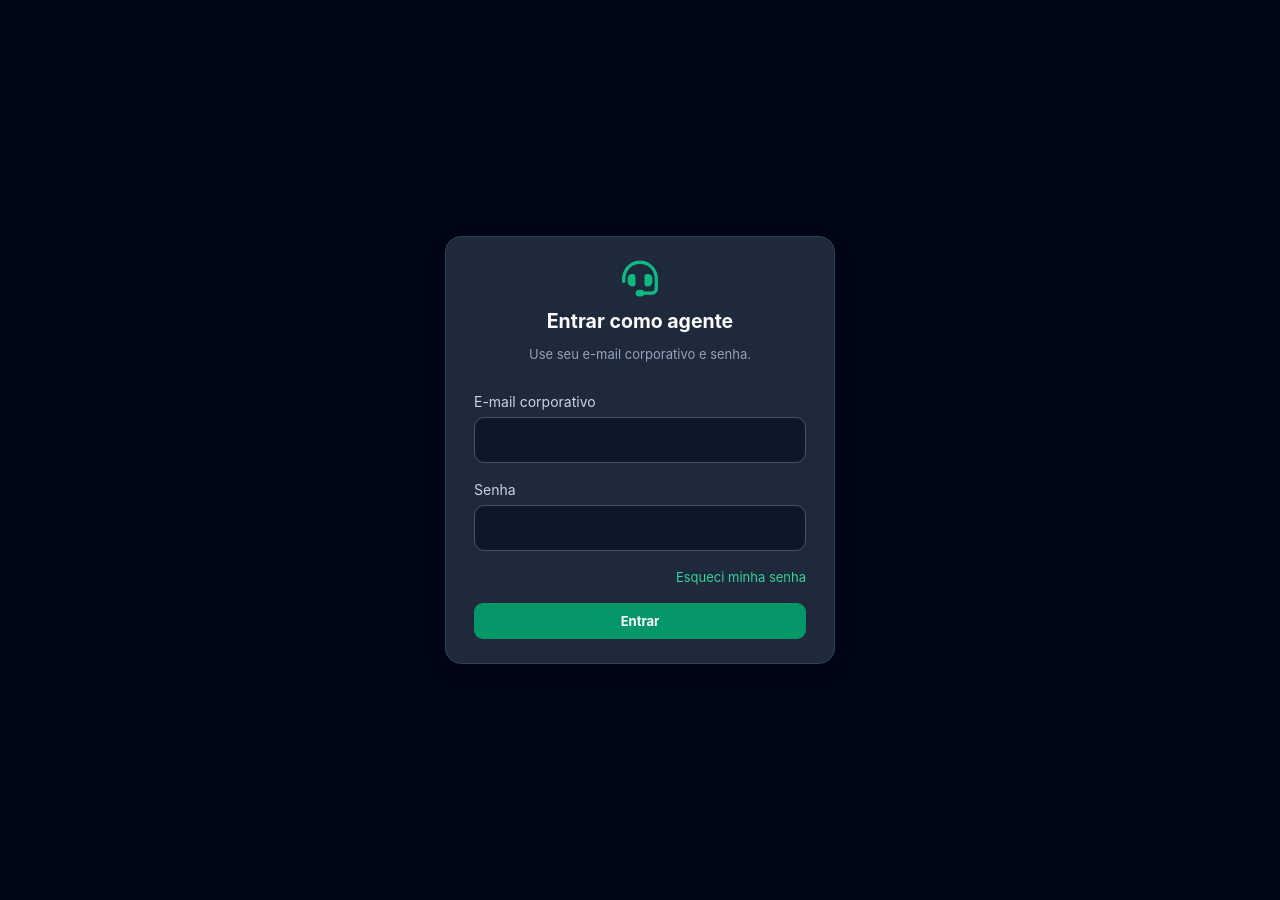
it: LoginModal › envia credenciais e apresenta erro
Type "agente@sng.com.br" into the field labelled "E-mail corporativo".
click(640, 440); type("agente@sng.com.br")  # box [474, 417, 806, 463]
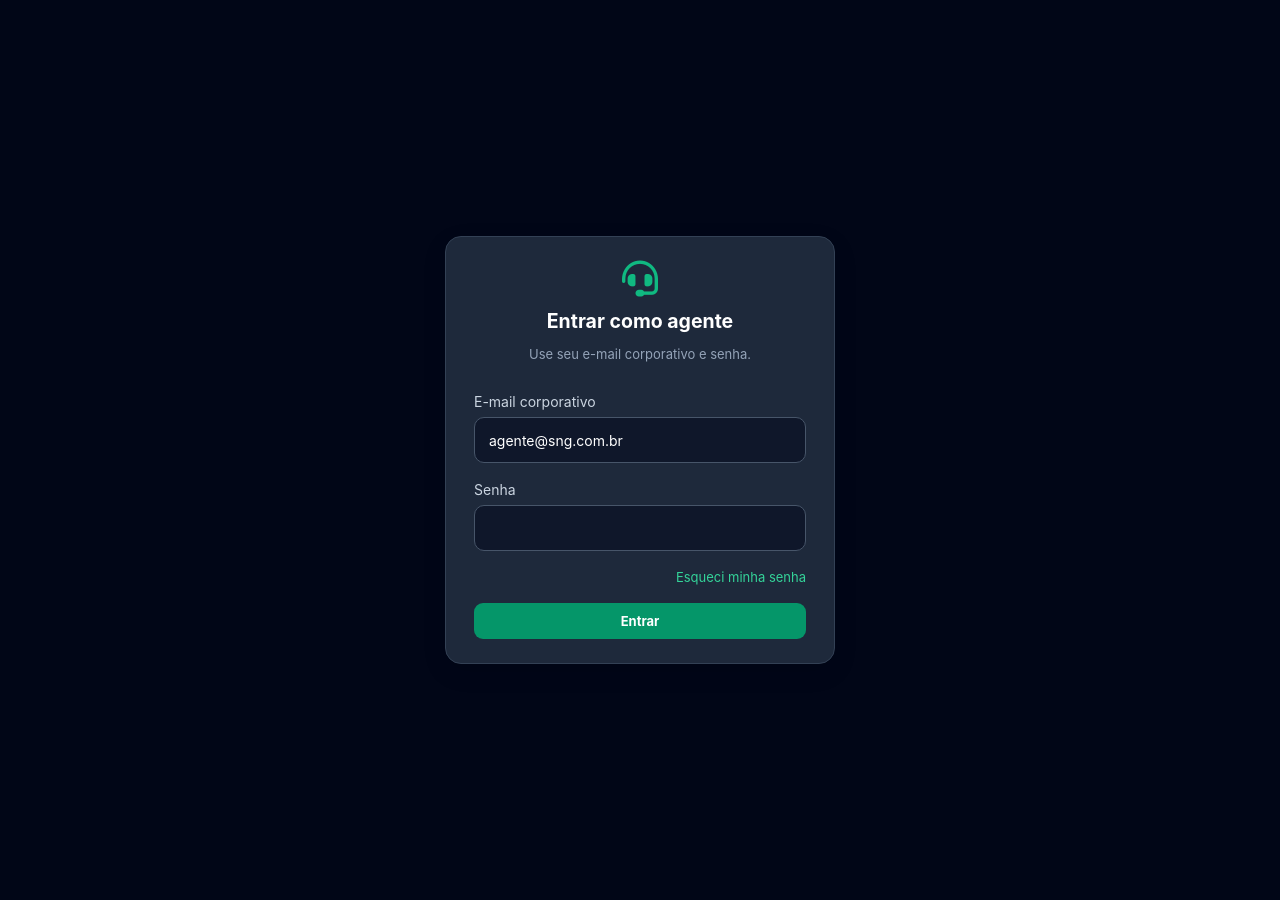
Type "senha" into the password field labelled "Senha".
click(640, 528); type("senha")  # box [474, 505, 806, 551]
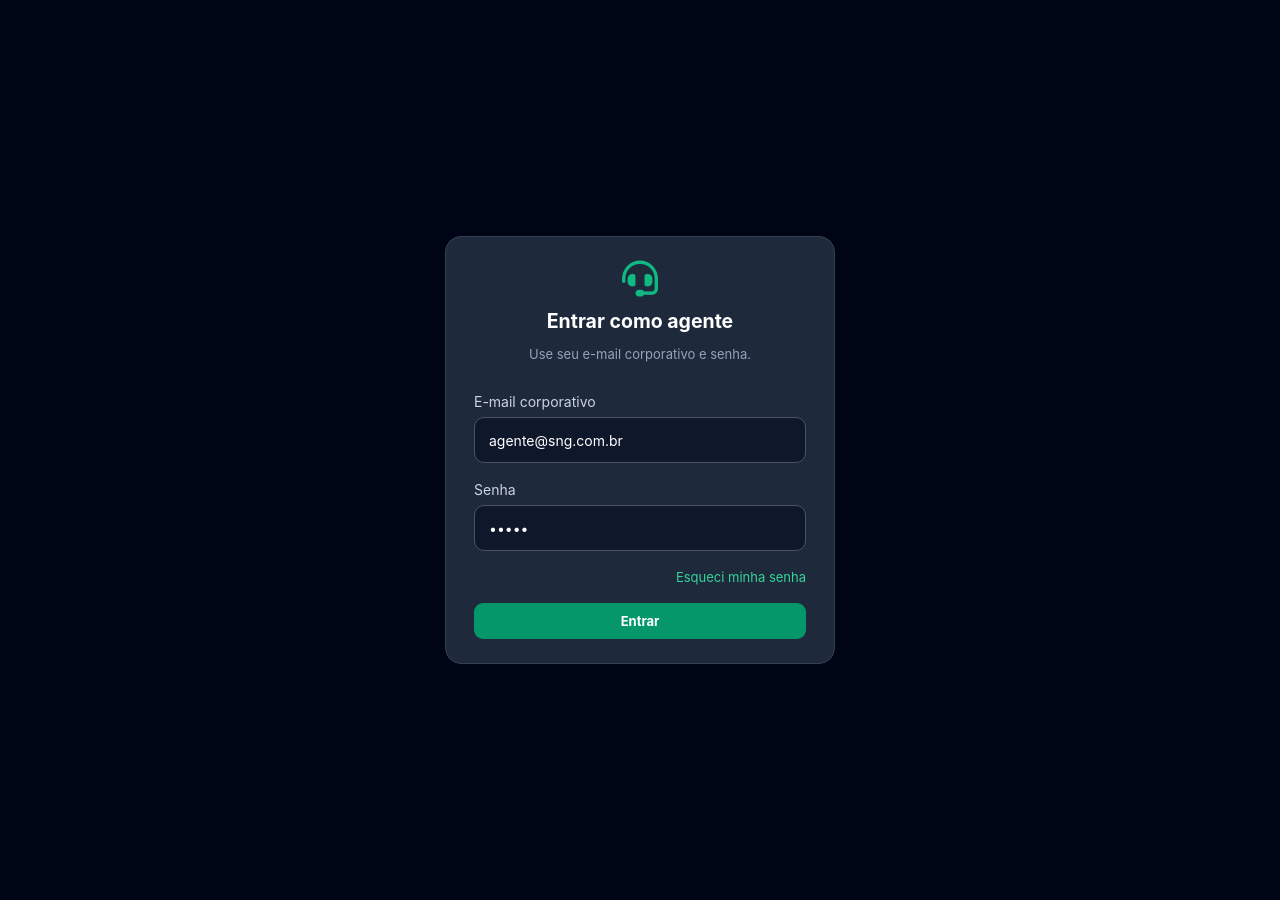
Click the button "Entrar".
click(640, 621)  # box [474, 603, 806, 639]
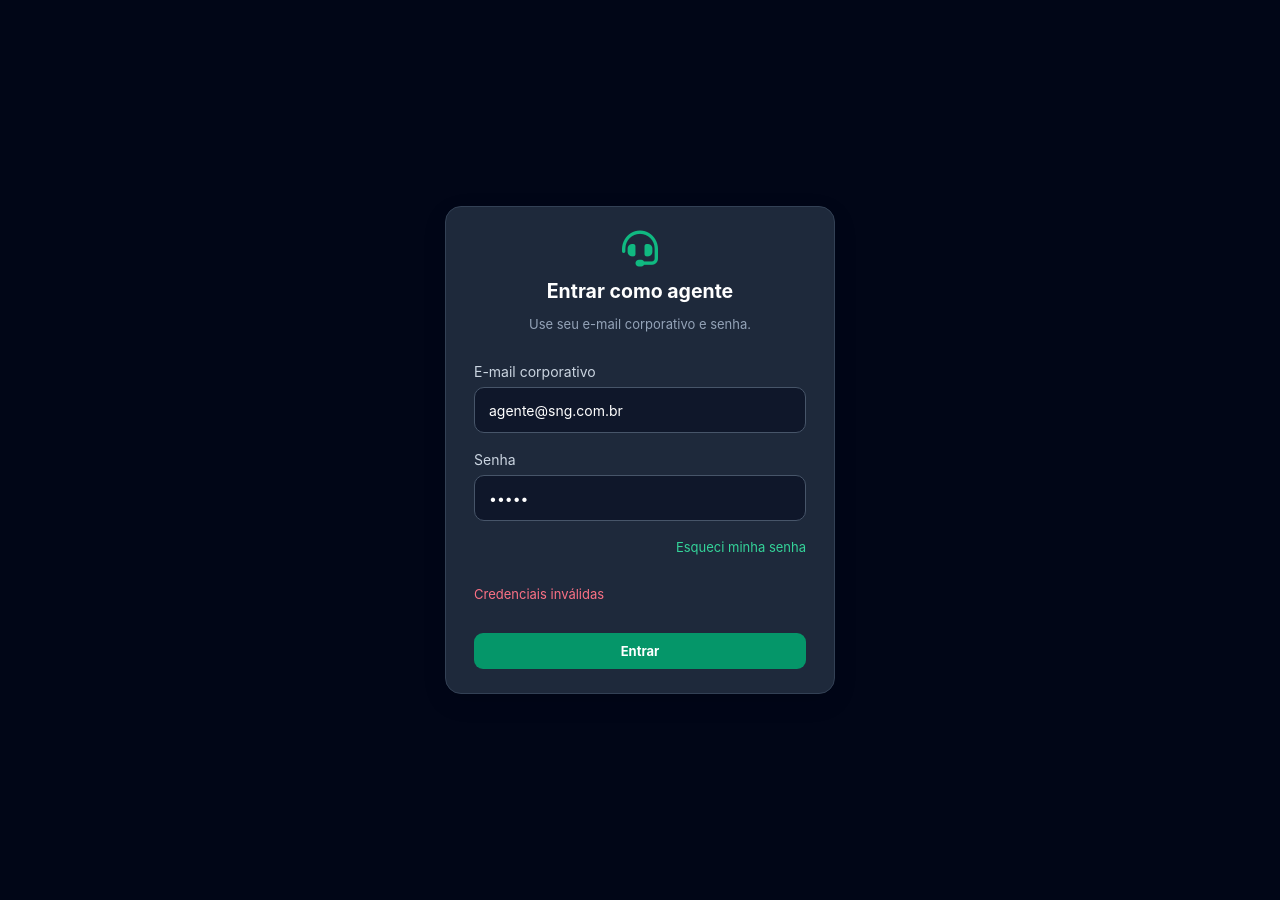
Check: the text "Credenciais inválidas" is shown, box [474, 586, 604, 602]
